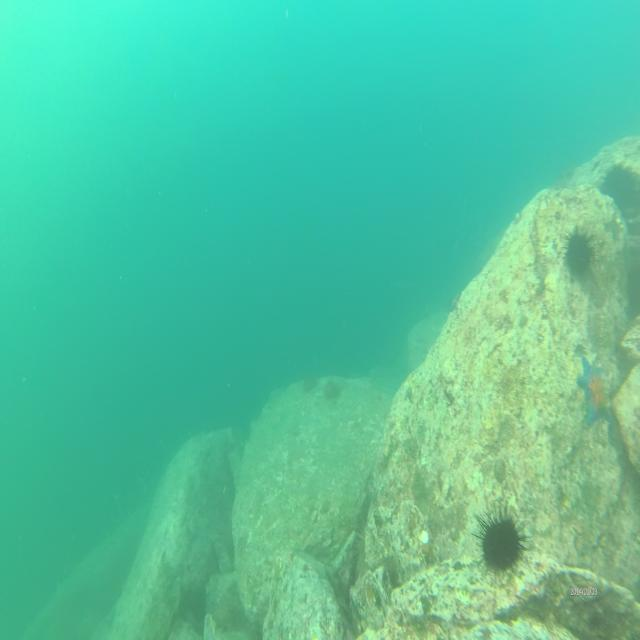echinus: (470, 502, 529, 579), (561, 225, 600, 278)
starfish: (576, 351, 612, 427)
